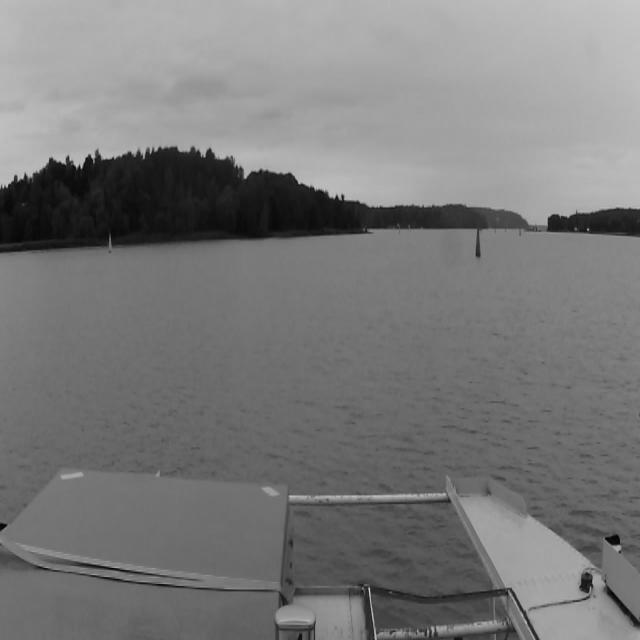buoy: (475, 226, 481, 257), (108, 234, 112, 253), (408, 224, 411, 232), (398, 226, 401, 234), (519, 227, 521, 236), (494, 227, 496, 233), (505, 227, 507, 233)
